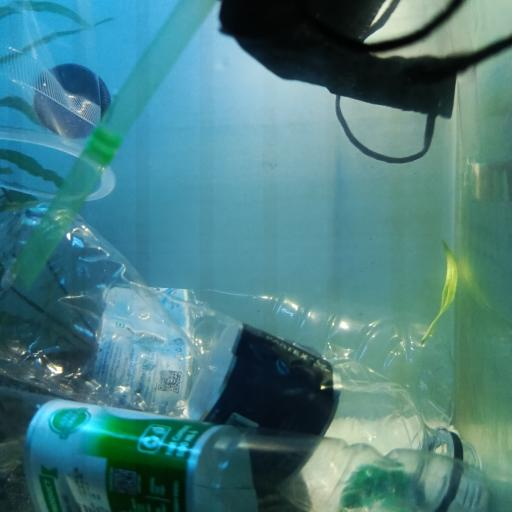bottle_cap: (36, 64, 110, 139)
mask: (218, 0, 512, 163)
plastic_bottle: (1, 201, 482, 512), (12, 284, 456, 430), (0, 383, 492, 511)
plastic_cup: (0, 0, 117, 202)
plastic_straw: (12, 0, 216, 286)
